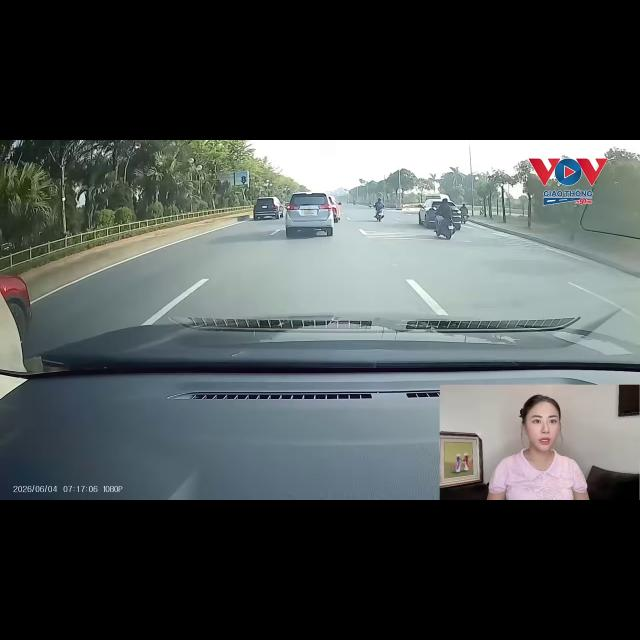car: (285, 192, 333, 237), (0, 276, 31, 338), (418, 199, 442, 228), (253, 197, 284, 219), (329, 195, 341, 222)
motorcycle: (435, 216, 454, 239), (376, 210, 384, 222), (461, 214, 468, 223)
